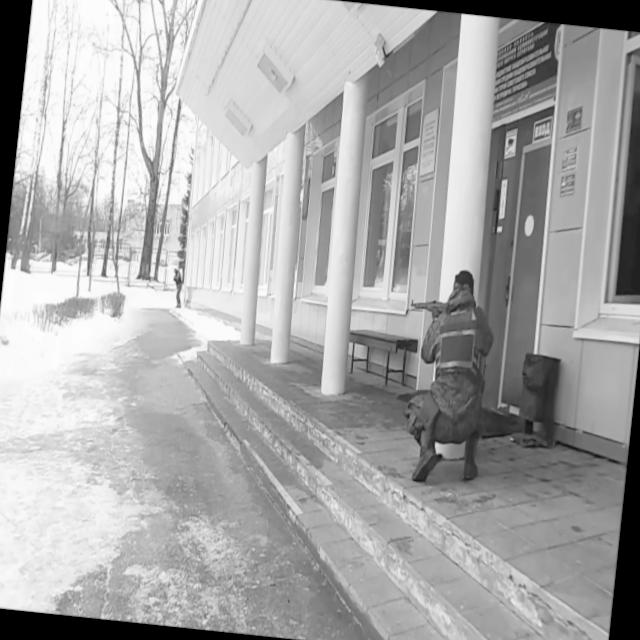gun: (410, 295, 450, 320)
person: (168, 266, 186, 309)
person with a gun: (392, 262, 499, 491)
